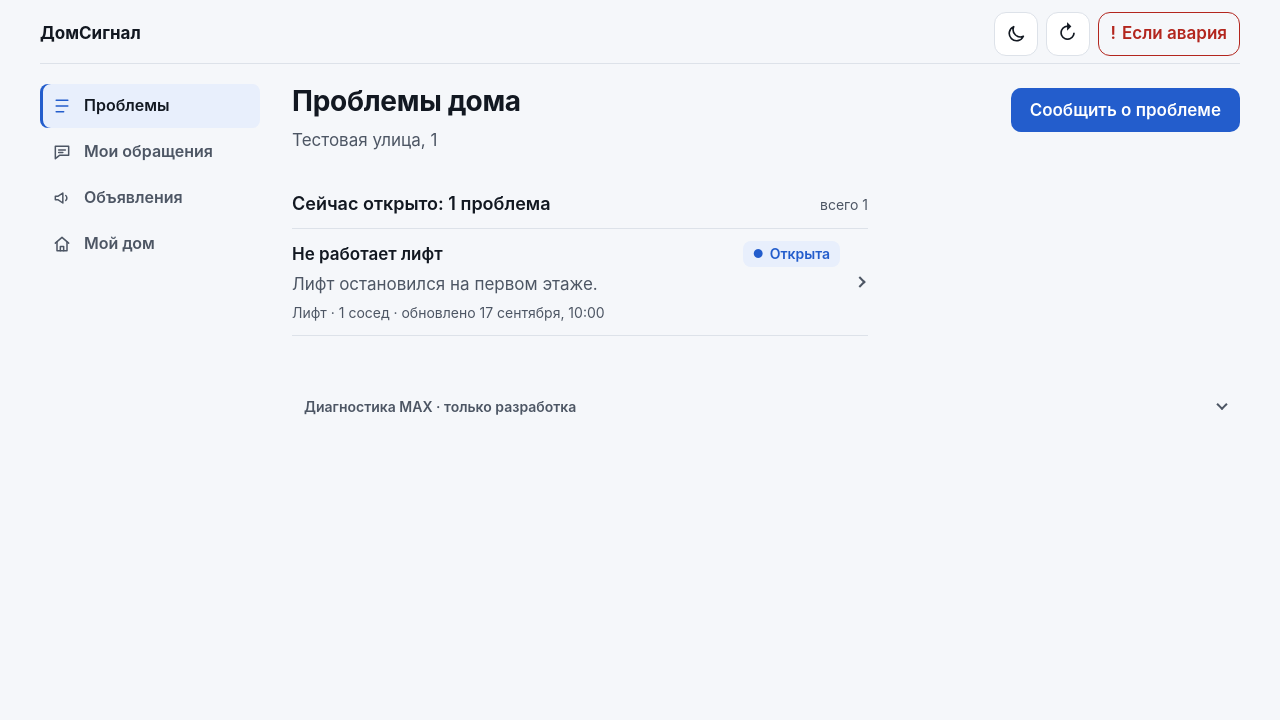
Test: board/detail experience › retains stale data after refetch failure, then reloads from server
Expected: the text "Тестовая улица, 1" is shown, [292, 130, 437, 150]
Step 1. Click the button named "Обновить" → point(1068, 34), box [1046, 12, 1090, 56]
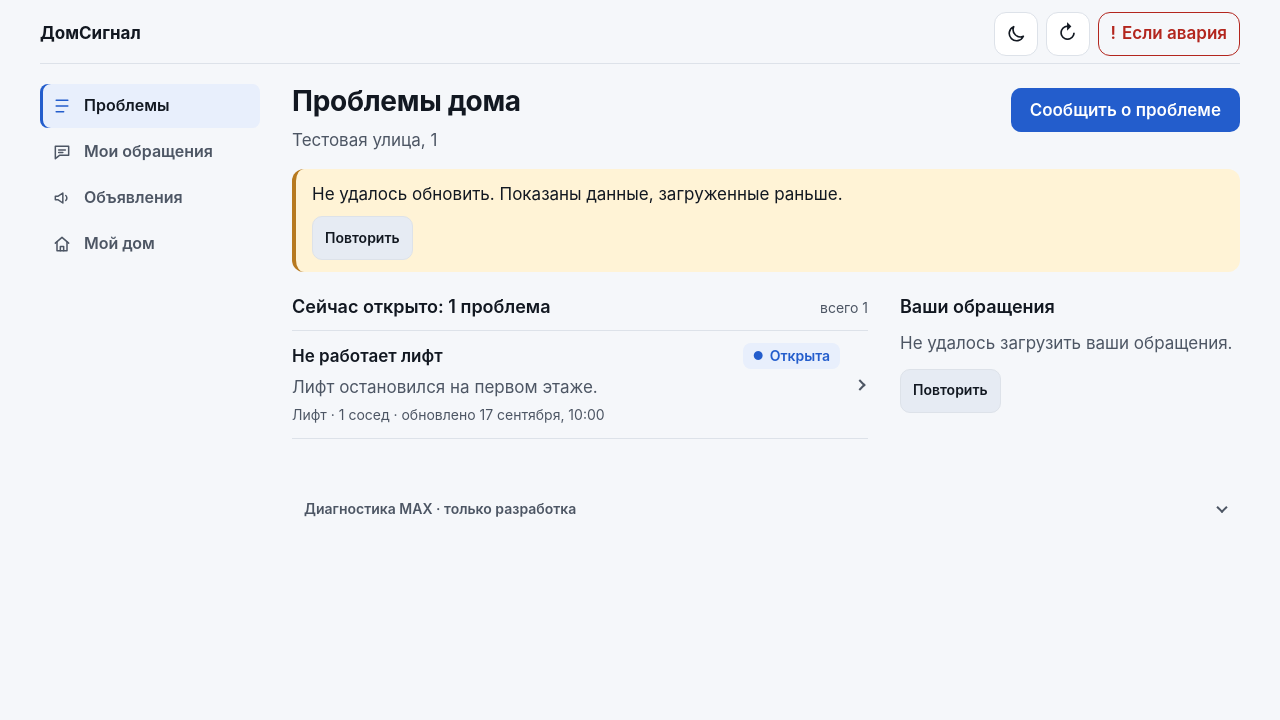
Expected: the link "Не работает лифт" is shown, [284, 331, 876, 438]
Result: the text "Не удалось обновить. Показаны данные, загруженные раньше." is shown at [312, 184, 843, 204]
Step 2. Click the 1st button "Повторить" → point(362, 238), box [312, 216, 413, 260]
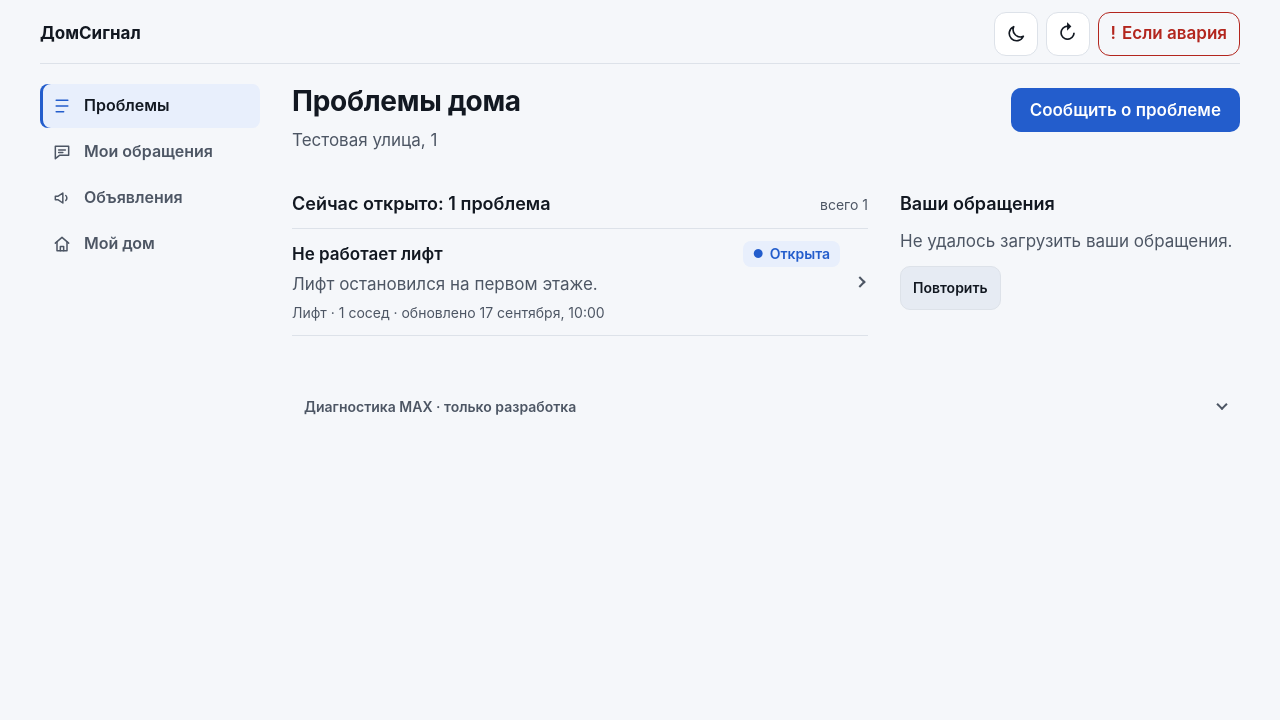
Result: the text "Показаны данные, загруженные раньше" is gone
